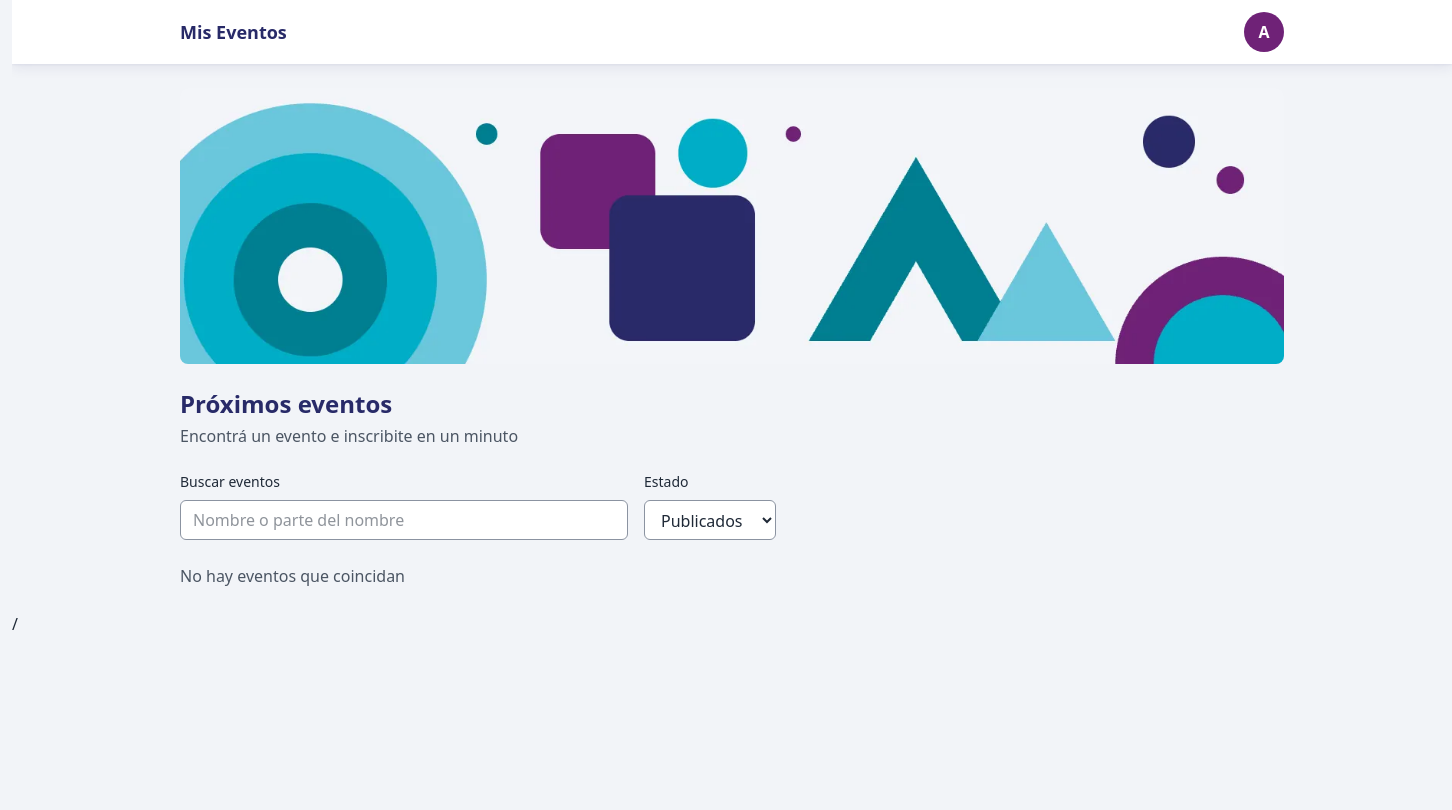
sin nombre (null) el círculo lleva la inicial del email y el encabezado el email
This screenshot has width=1452, height=810.
Click the button named "Menú de la cuenta". click: (1264, 32)
box: [1244,12,1284,52]
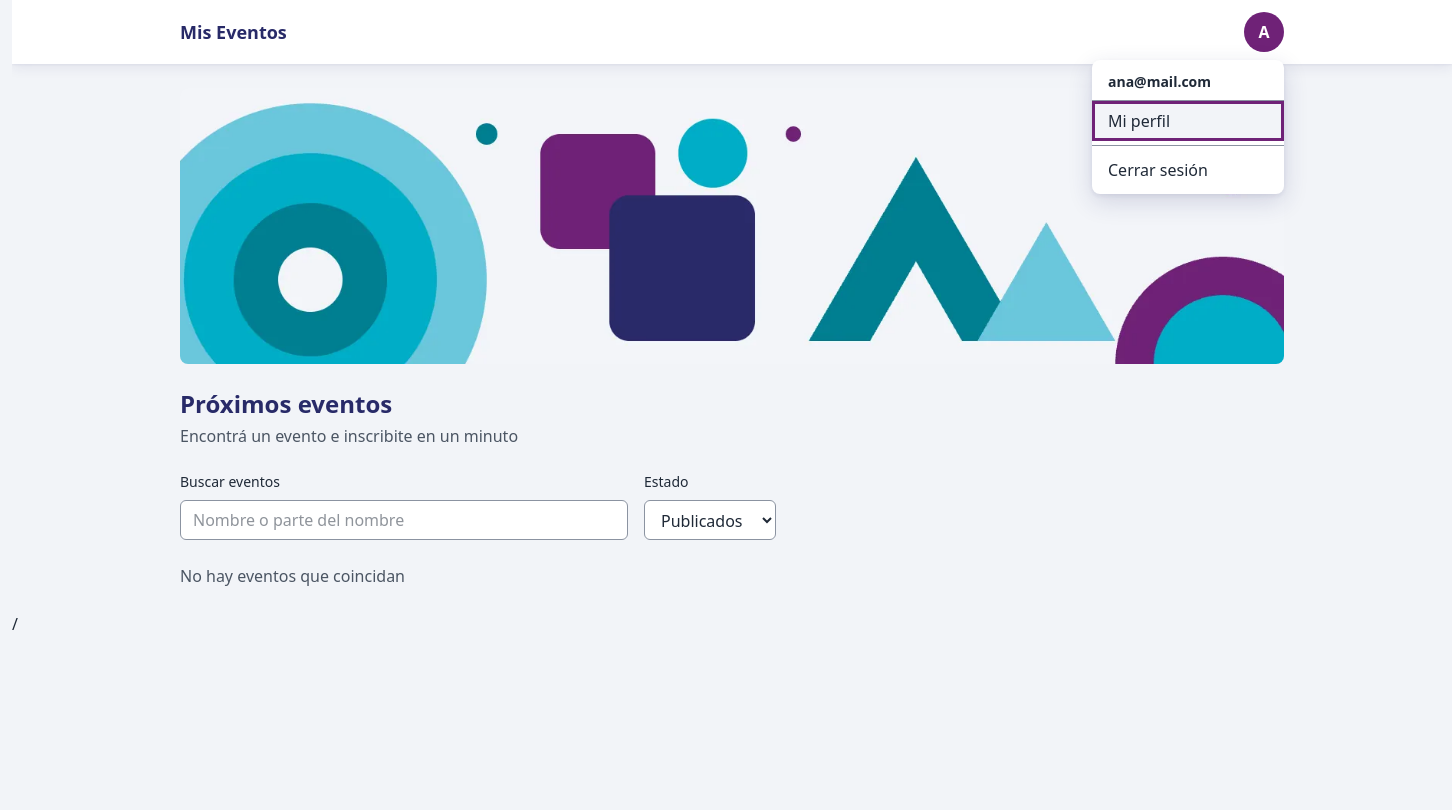
Result: the text "ana@mail.com" is shown once at [1108,72,1211,91]
